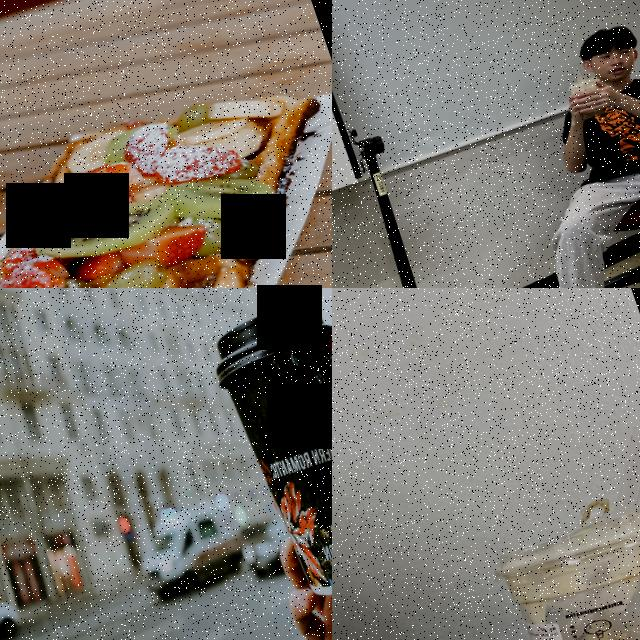cup: (200, 290, 332, 609), (485, 498, 640, 640), (566, 72, 610, 122)
